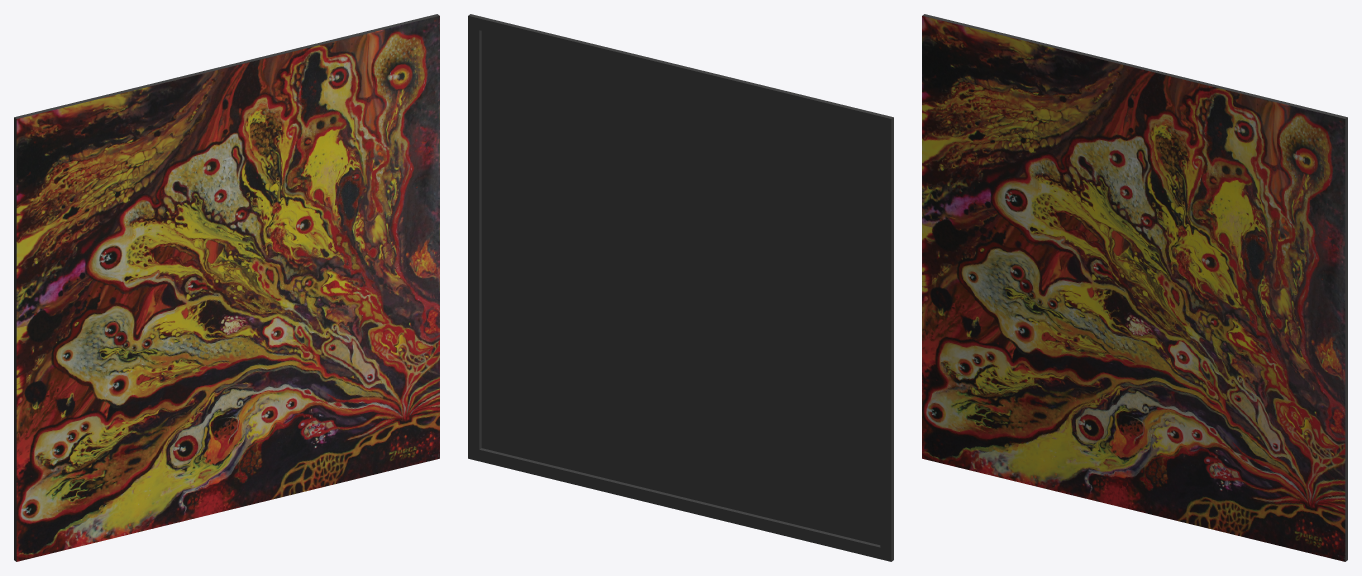
File: tvardausko_knyga.glb
3 renders of one model, left to right at view 1: azimuth 30°, elevation 25°; view 2: azimuth 150°, elevation 25°; view 3: azimuth 330°, elevation 25°, orthographic.
Visible parts, largest first — view 1: Plane; view 2: Plane; view 3: Plane.
Boxes of the visible parts, x1,y1,x2,y2 form: Plane: (14, 14, 439, 561); Plane: (468, 14, 893, 561); Plane: (922, 14, 1347, 561).
Bounding box in the file's own units: 1 × 1 × 0.01.
Materials: 2 (1 with a texture image).
